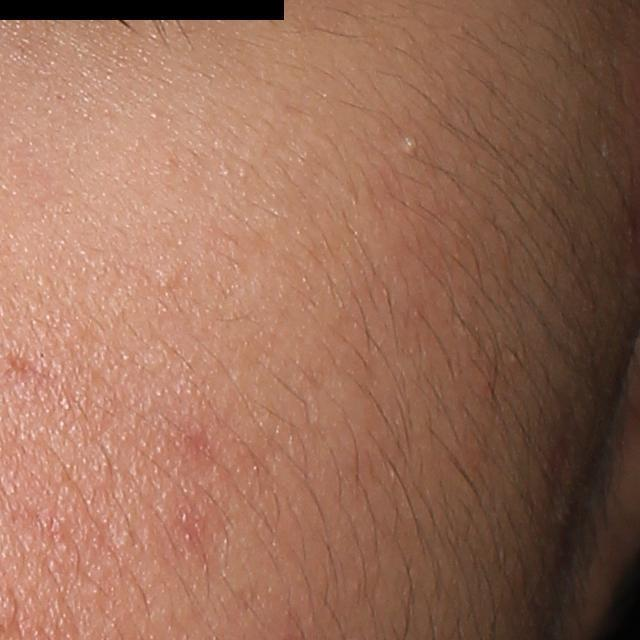comedo: (157, 271, 183, 295), (403, 134, 422, 156)
